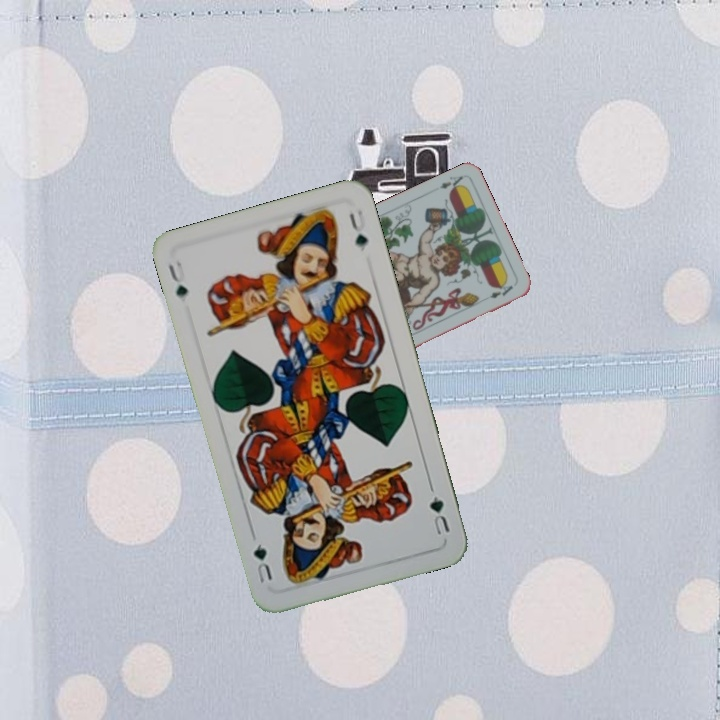EA: (427, 172, 466, 195)
GU: (425, 482, 453, 538), (164, 256, 191, 301)
